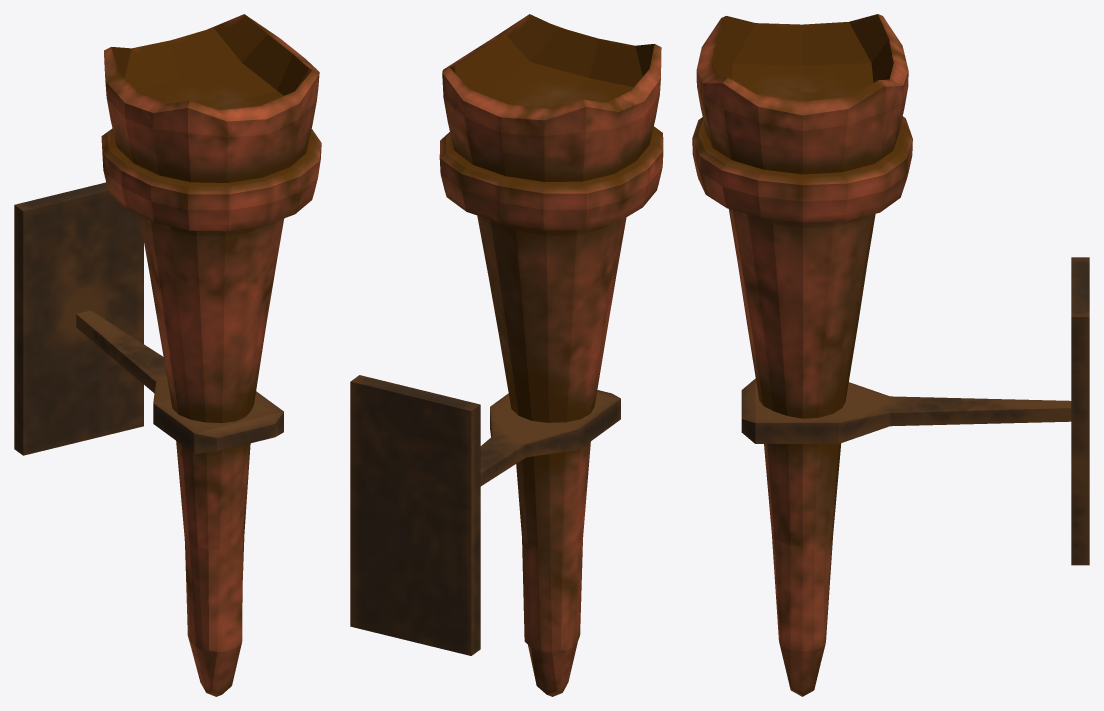
The model's file is Torch.fbx.
3 renders of one model, left to right at view 1: azimuth 30°, elevation 25°; view 2: azimuth 150°, elevation 25°; view 3: azimuth 270°, elevation 25°, orthographic.
Parts seen in each view (by area): view 1: Torch; view 2: Torch; view 3: Torch.
Boxes of the visible parts, bbox=[...] form: Torch: bbox=[14, 14, 321, 696]; Torch: bbox=[350, 14, 663, 696]; Torch: bbox=[692, 14, 1089, 696].
Size of the model in its own units: 21.06 by 68.45 by 37.98.
Materials: 1 (1 with a texture image).
